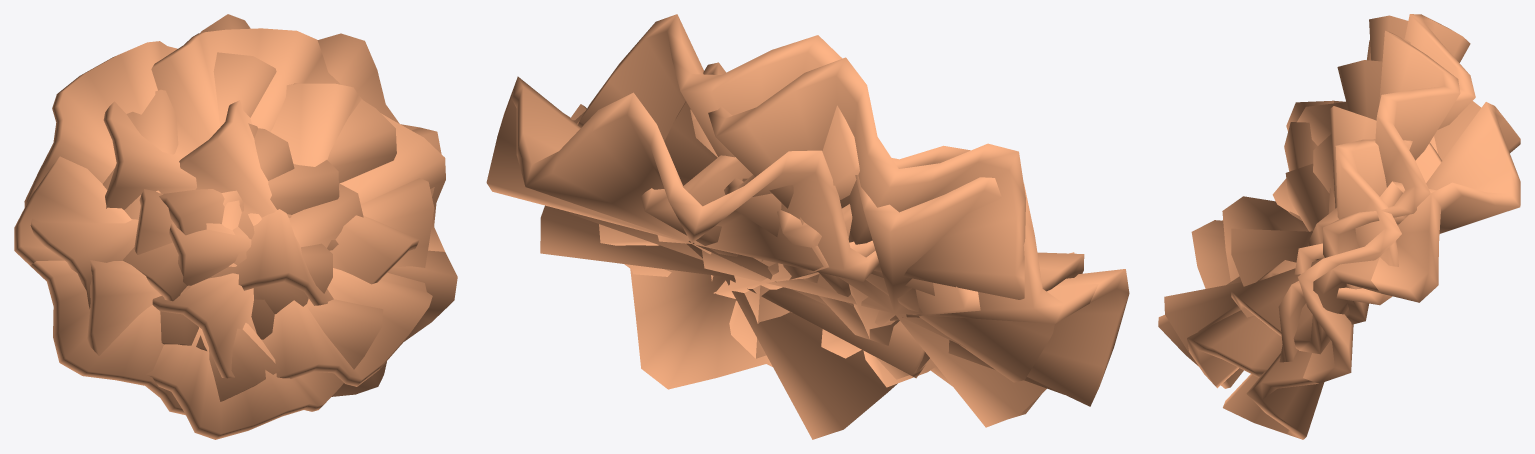
Rendered from lettuce.glb.
The picture shows the model from 3 angles, left to right: view 1: azimuth 30°, elevation 25°; view 2: azimuth 150°, elevation 25°; view 3: azimuth 270°, elevation 25°; orthographic projection. The views are drawn at different scales.
Parts seen in each view (by area): view 1: lettuce_coral; view 2: lettuce_coral; view 3: lettuce_coral.
Boxes of the visible parts, bbox=[...] form: lettuce_coral: bbox=[14, 14, 457, 439]; lettuce_coral: bbox=[486, 14, 1129, 439]; lettuce_coral: bbox=[1158, 14, 1520, 439].
Size of the model in its own units: 1.24 by 0.9852 by 0.9319.
